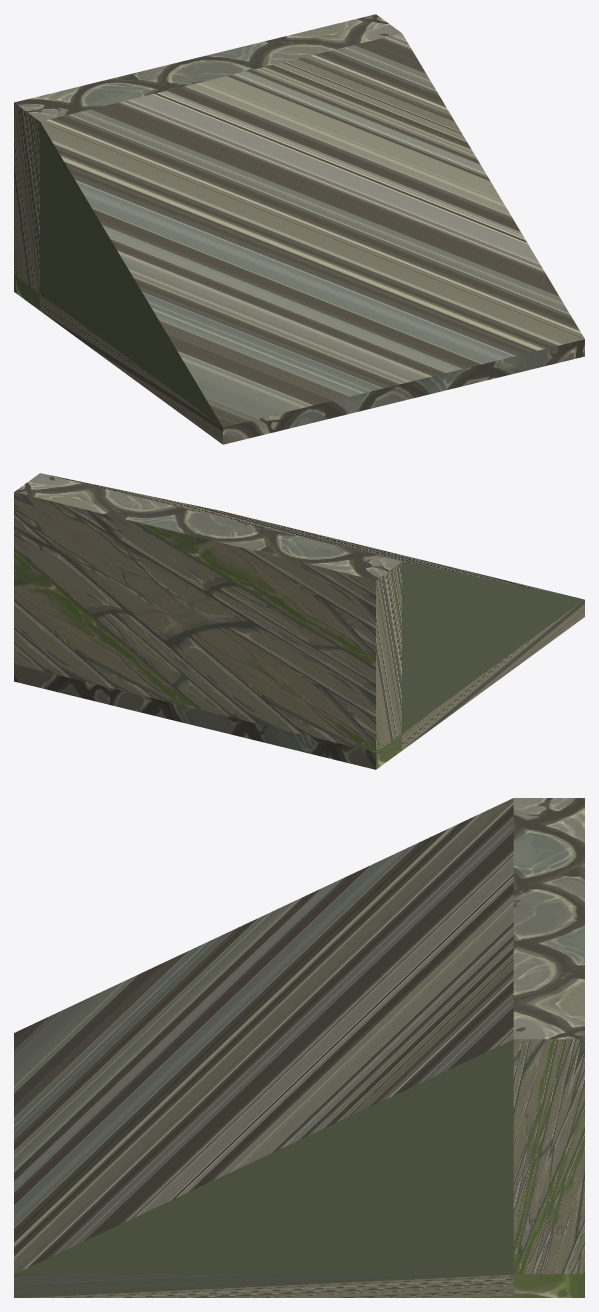
File: StairsCollision.obj
The picture shows the model from 3 angles, top to bottom: view 1: azimuth 30°, elevation 25°; view 2: azimuth 150°, elevation 25°; view 3: azimuth 270°, elevation 25°; orthographic projection. The views are drawn at different scales.
Parts seen in each view (by area): view 1: floor1_Untitled; view 2: floor1_Untitled; view 3: floor1_Untitled.
Boxes of the visible parts, x1,y1,x2,y2 form: floor1_Untitled: [14, 14, 584, 444]; floor1_Untitled: [14, 473, 584, 769]; floor1_Untitled: [14, 798, 584, 1297].
Bounding box in the file's own units: 4 × 2 × 4.
